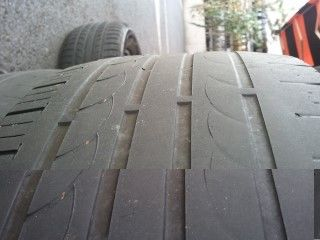bad_condition: (6, 49, 320, 165)
